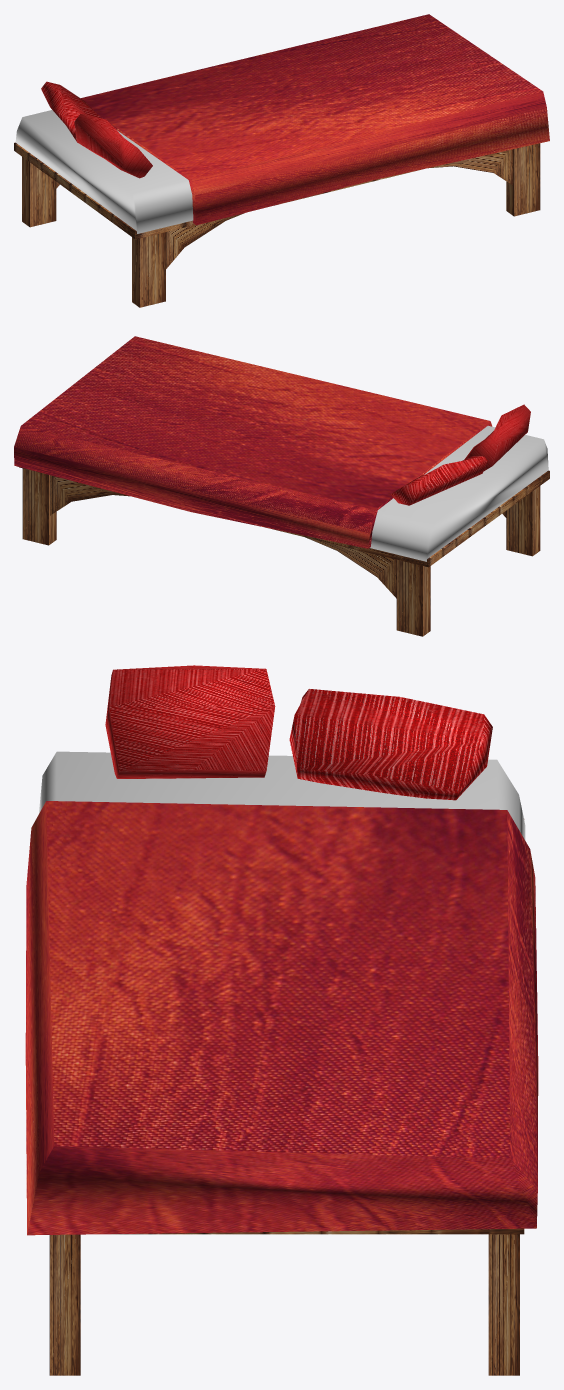
Rendered from Bed.fbx.
3 views of the same model, one above another, from view 1: azimuth 30°, elevation 25°; view 2: azimuth 150°, elevation 25°; view 3: azimuth 270°, elevation 25° (orthographic). The views are drawn at different scales.
Parts seen in each view (by area): view 1: Blanket, BedStand.001, Mattress, Pillow1, Pillow2; view 2: Blanket, BedStand.001, Mattress, Pillow2, Pillow1; view 3: Blanket, Pillow1, Pillow2, Mattress, BedStand.001.
Part boxes in pixels (bbox=[...]): Blanket: bbox=[81, 14, 549, 225]; BedStand.001: bbox=[14, 142, 540, 307]; Mattress: bbox=[15, 110, 193, 233]; Pillow1: bbox=[74, 113, 152, 178]; Pillow2: bbox=[41, 81, 99, 142]; Blanket: bbox=[14, 336, 492, 548]; BedStand.001: bbox=[19, 467, 549, 636]; Mattress: bbox=[370, 425, 548, 561]; Pillow2: bbox=[390, 456, 487, 505]; Pillow1: bbox=[464, 404, 530, 470]; Blanket: bbox=[25, 801, 538, 1235]; Pillow1: bbox=[105, 665, 275, 778]; Pillow2: bbox=[289, 689, 492, 800]; Mattress: bbox=[39, 751, 525, 839]; BedStand.001: bbox=[49, 819, 524, 1375].
Size of the model in its own units: 498 by 184 by 266.
4 materials, 3 textured.
